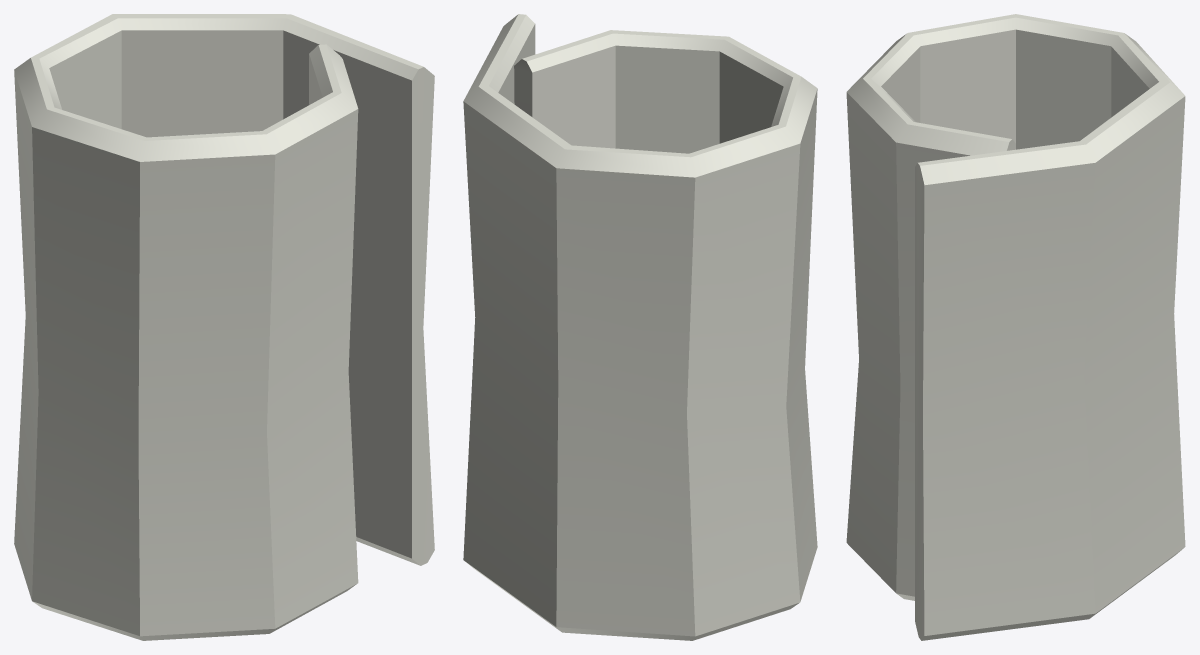
File: Gauze_Mesh.fbx
3 views of the same model, side by side, from view 1: azimuth 30°, elevation 25°; view 2: azimuth 150°, elevation 25°; view 3: azimuth 270°, elevation 25° (orthographic). The views are drawn at different scales.
Visible parts, largest first — view 1: Gauze; view 2: Gauze; view 3: Gauze.
Boxes of the visible parts, x1,y1,x2,y2 form: Gauze: (14,14,434,640); Gauze: (463,14,817,640); Gauze: (846,14,1185,640).
Size of the model in its own units: 6.25 by 8.38 by 5.44.
1 material, 1 textured.
